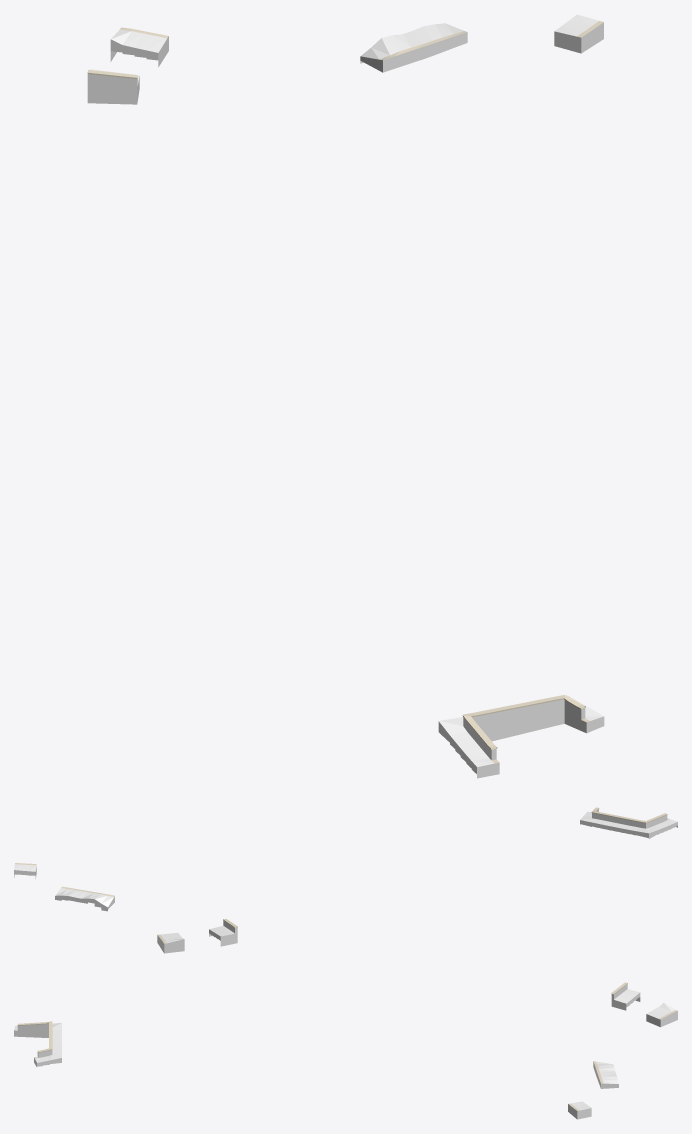
File: SM_BM_BC_Works_0_3.glb
3 renders of one model, top to bottom at view 1: azimuth 30°, elevation 25°; view 2: azimuth 150°, elevation 25°; view 3: azimuth 270°, elevation 25°, orthographic. The views are drawn at different scales.
Visible parts, largest first — view 1: SM_BM_BC_Works_0_3; view 2: SM_BM_BC_Works_0_3; view 3: SM_BM_BC_Works_0_3.
Boxes of the visible parts, <box> form: SM_BM_BC_Works_0_3: <box>87,14,604,778</box>; SM_BM_BC_Works_0_3: <box>14,807,677,953</box>; SM_BM_BC_Works_0_3: <box>14,982,677,1119</box>.
Size of the model in its own units: 57.73 by 16.47 by 96.37.
